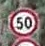limite 50: (8, 6, 40, 37)
